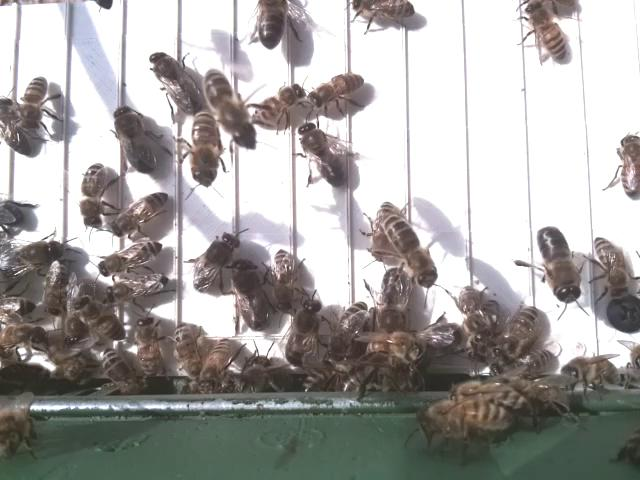Drone: (534, 222, 584, 307), (148, 44, 204, 118), (297, 119, 350, 190), (110, 101, 159, 177), (230, 255, 273, 338), (188, 231, 241, 293), (284, 295, 324, 369), (374, 265, 415, 334)
Worker: (109, 190, 174, 239), (93, 238, 165, 279), (524, 0, 570, 64), (591, 234, 632, 303), (185, 110, 221, 187), (305, 71, 368, 115), (326, 299, 368, 362), (249, 82, 303, 127), (102, 272, 173, 306), (0, 94, 33, 161), (78, 159, 108, 230), (134, 311, 164, 377), (270, 246, 297, 315), (170, 319, 201, 376), (21, 73, 50, 130), (347, 0, 416, 23), (618, 131, 640, 200)
